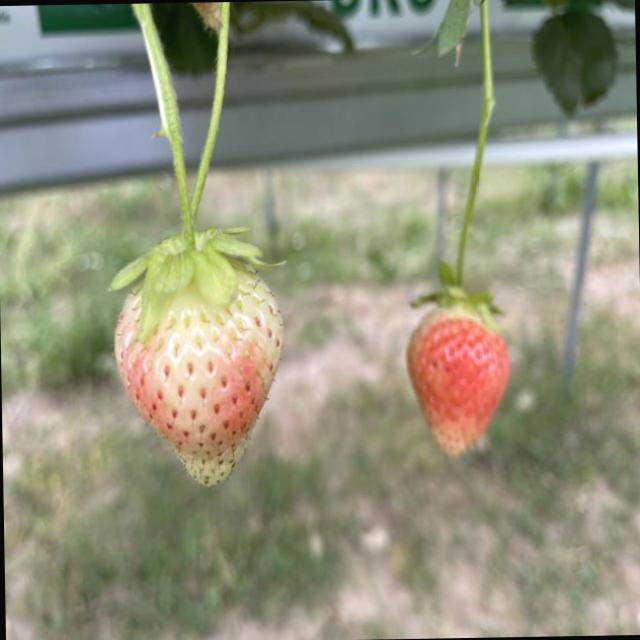stem: (110, 2, 262, 337), (417, 0, 496, 328)
strawberryR: (114, 272, 280, 483), (406, 309, 507, 454)
